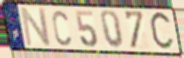0: (100, 9, 125, 50)
5: (74, 9, 99, 49)
7: (124, 10, 146, 51)
C: (148, 10, 175, 54), (51, 9, 72, 47)
N: (19, 7, 52, 47)
